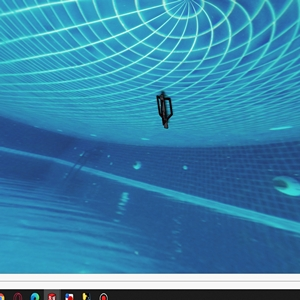submarine: (157, 92, 173, 128)
